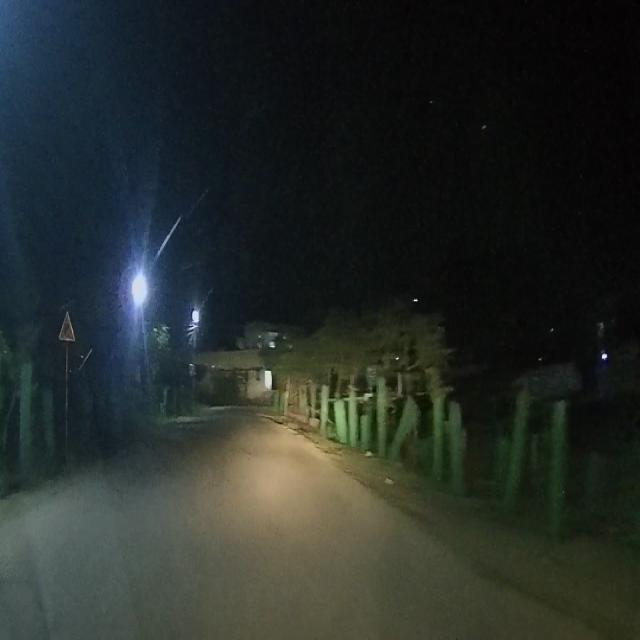right-hand-curve: (61, 308, 74, 339)
